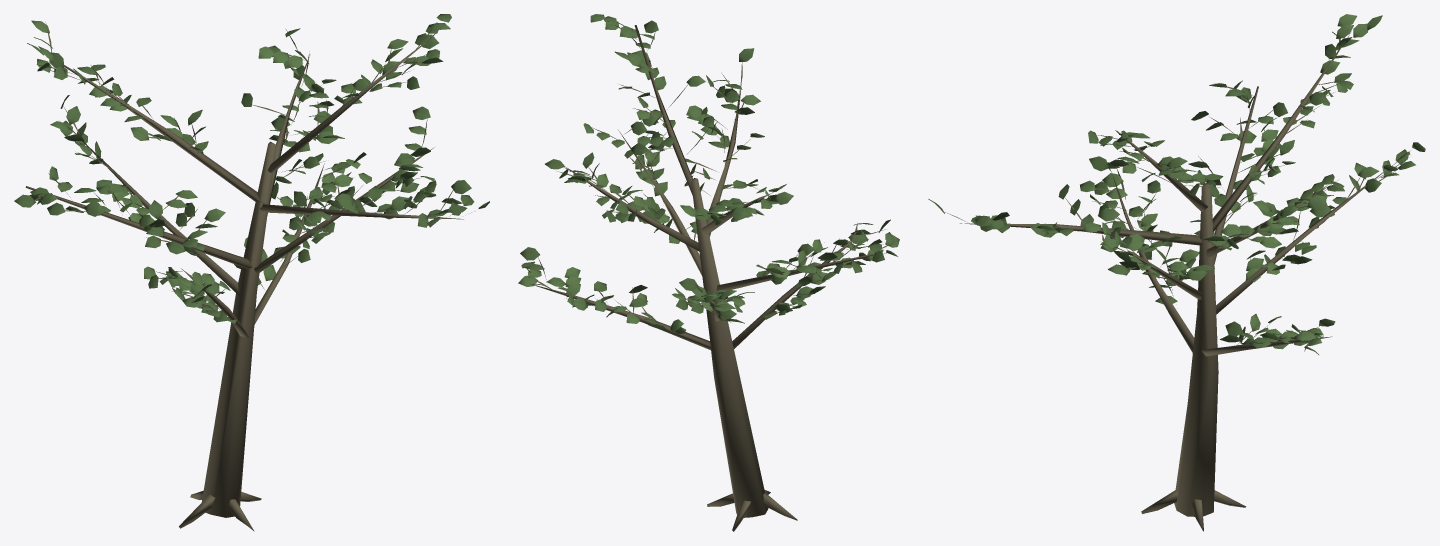
Rendered from CheneVert_0_LOD2.fbx.
3 views of the same model, side by side, from view 1: azimuth 30°, elevation 25°; view 2: azimuth 150°, elevation 25°; view 3: azimuth 270°, elevation 25° (orthographic). The views are drawn at different scales.
Parts seen in each view (by area): view 1: CheneVert_0_LOD2; view 2: CheneVert_0_LOD2; view 3: CheneVert_0_LOD2.
Boxes of the visible parts, left/top/right/bottom form: CheneVert_0_LOD2: left=14, top=14, right=489, bottom=531; CheneVert_0_LOD2: left=518, top=14, right=899, bottom=531; CheneVert_0_LOD2: left=928, top=14, right=1425, bottom=531.
Bounding box in the file's own units: 499 × 583 × 558.
